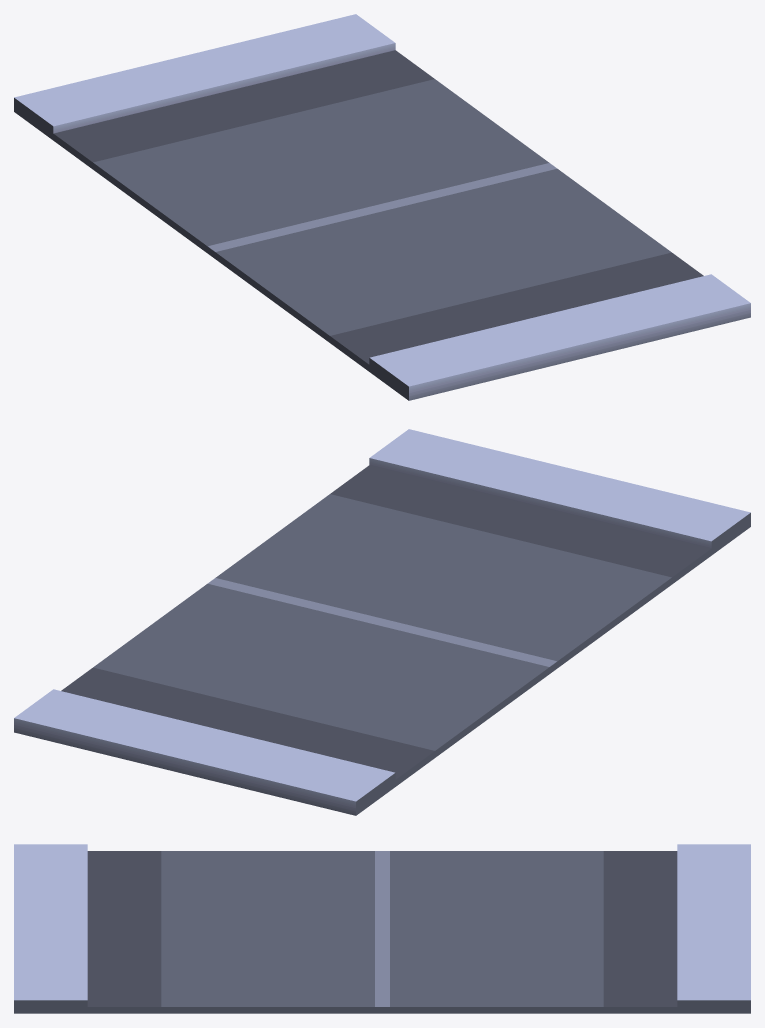
Rendered from road-straight-half.glb.
3 renders of one model, top to bottom at view 1: azimuth 30°, elevation 25°; view 2: azimuth 150°, elevation 25°; view 3: azimuth 270°, elevation 25°, orthographic. The views are drawn at different scales.
Visible parts, largest first — view 1: road-straight-half; view 2: road-straight-half; view 3: road-straight-half.
Part boxes in pixels (bbox=[...]): road-straight-half: bbox=[14, 14, 750, 400]; road-straight-half: bbox=[14, 429, 750, 815]; road-straight-half: bbox=[14, 844, 750, 1013].
Size of the model in its own units: 0.5001 by 0.02 by 1.
1 material, 1 textured.
